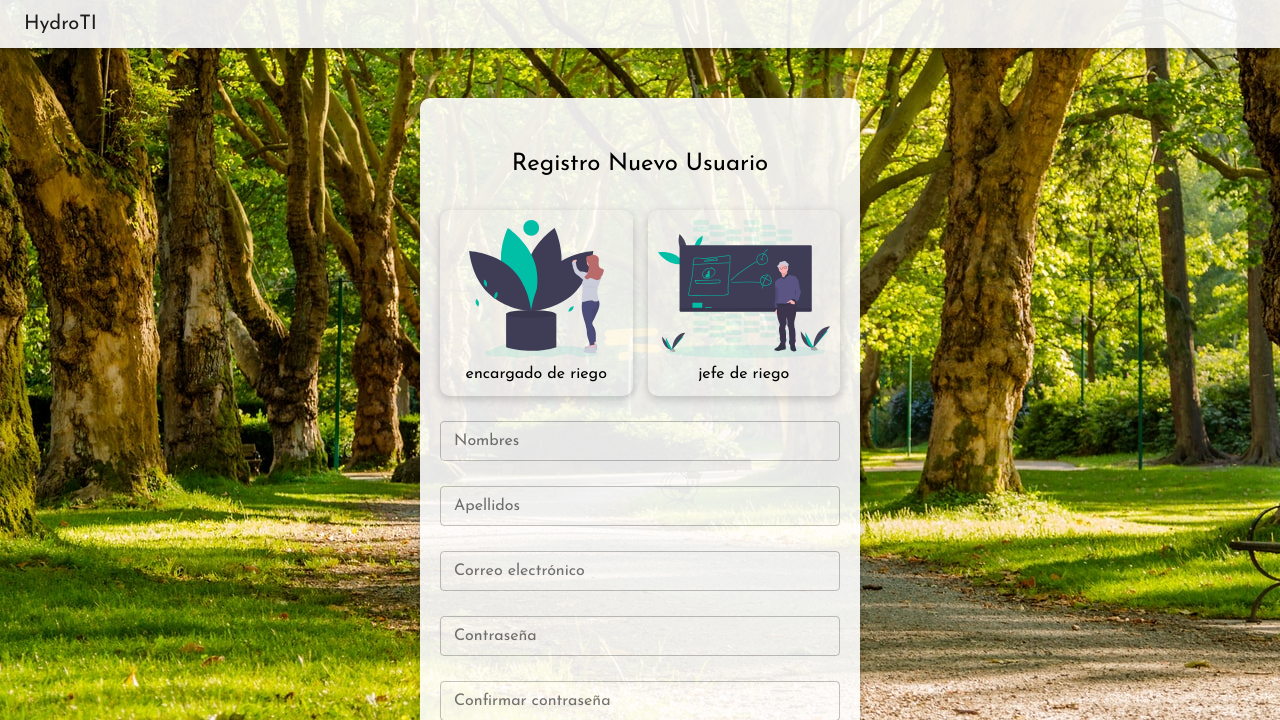
Test: As an user I want to register in the application to enter the plattforms › Should create the user correctly
Check the radio button named "role".
click(536, 352)  # box left=450, top=344, right=623, bottom=386
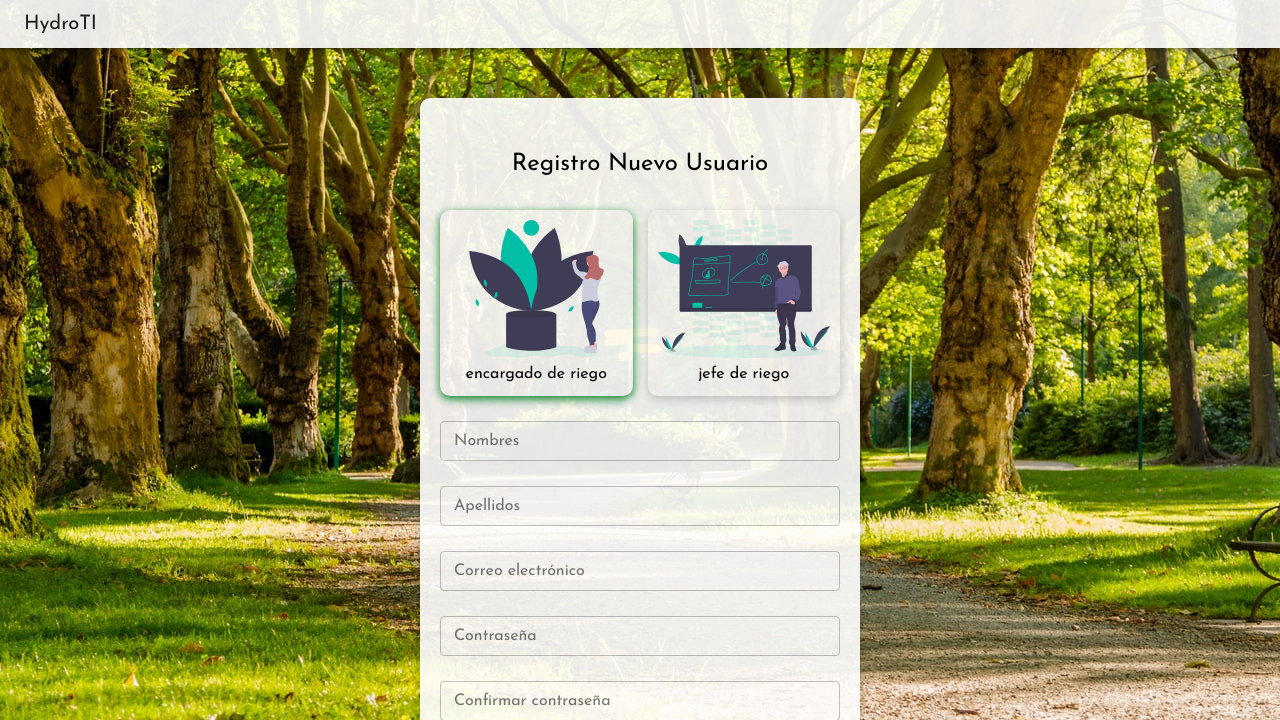
Type "name" into the field with id "sign-up-name".
click(640, 441); type("name")  # box left=440, top=421, right=840, bottom=461
Type "lastname" into the field with id "sign-up-lastname".
click(640, 506); type("lastname")  # box left=440, top=486, right=840, bottom=526
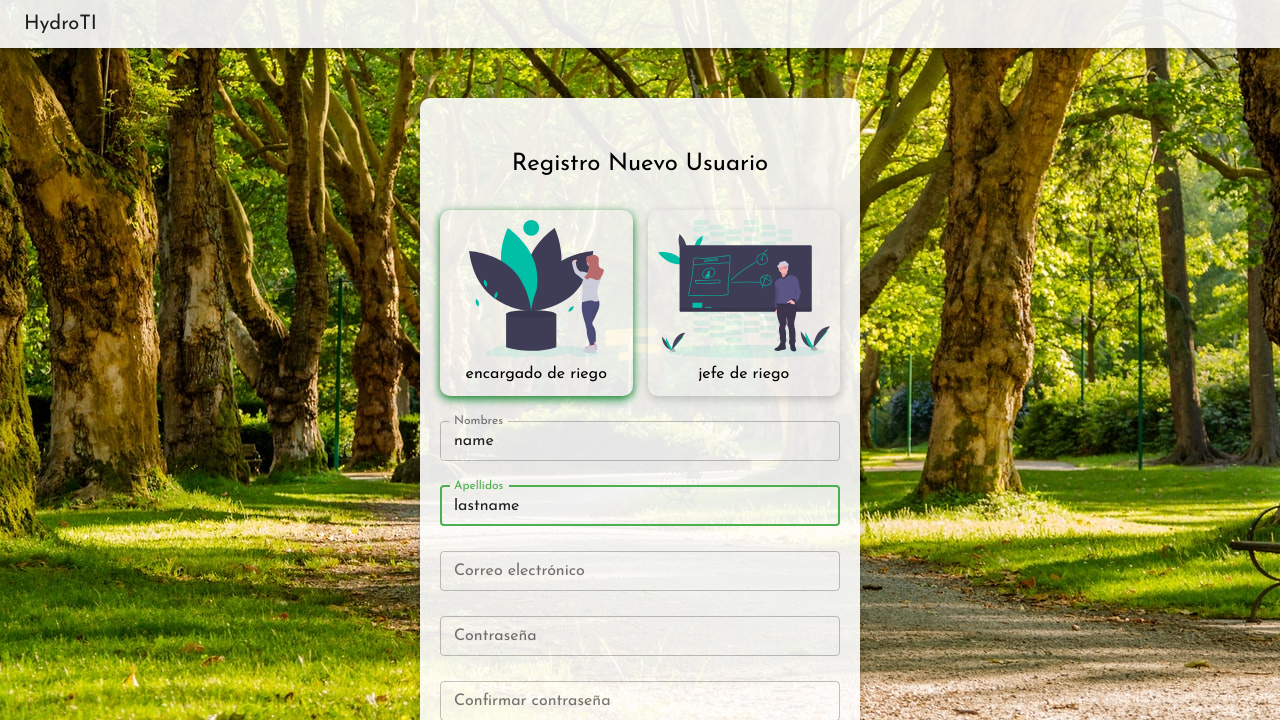
Type "mail@mail.com" into the field with id "sign-up-email".
click(640, 571); type("mail@mail.com")  # box left=440, top=551, right=840, bottom=591
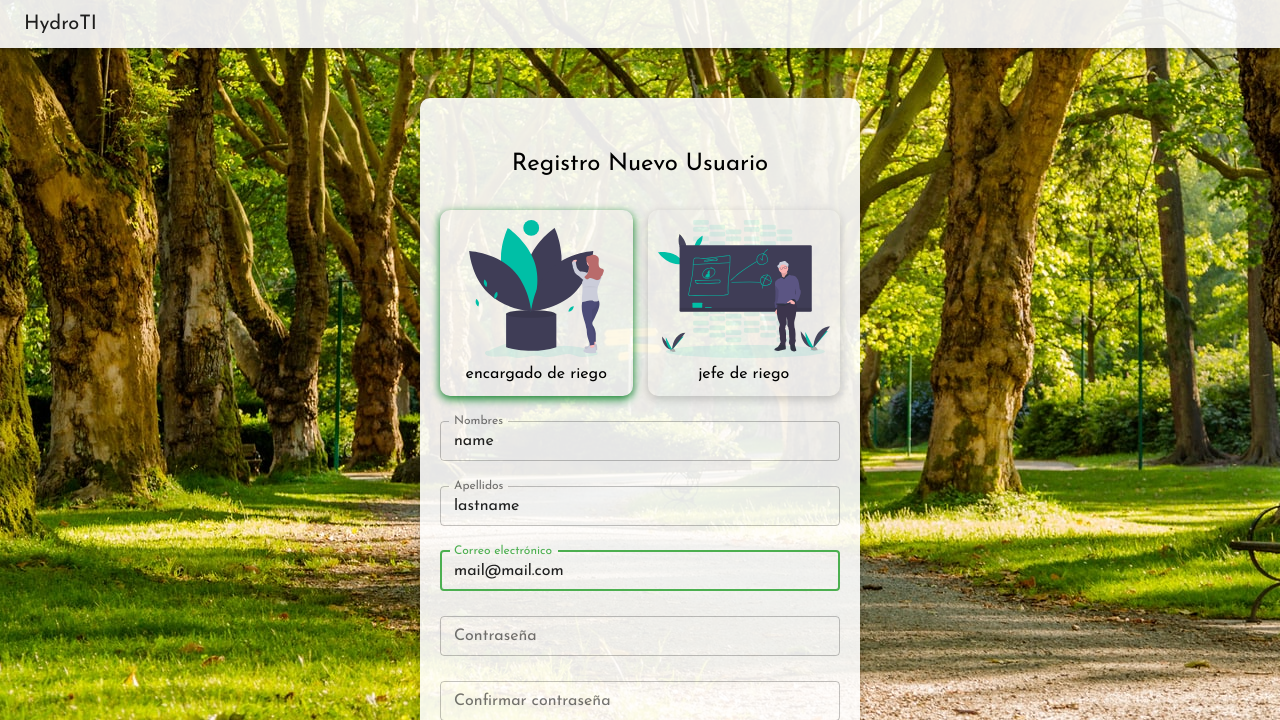
Type "password!" into the password field with id "sign-up-password".
click(640, 636); type("password!")  # box left=440, top=616, right=840, bottom=656
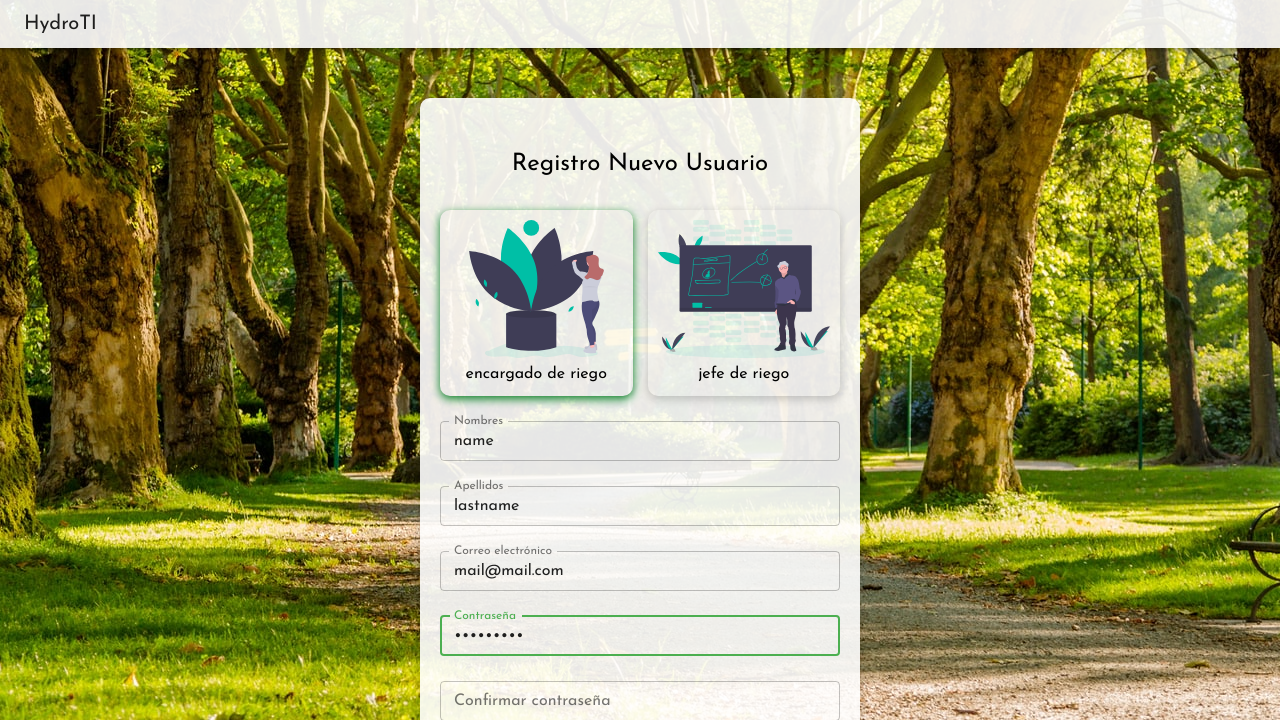
Scroll
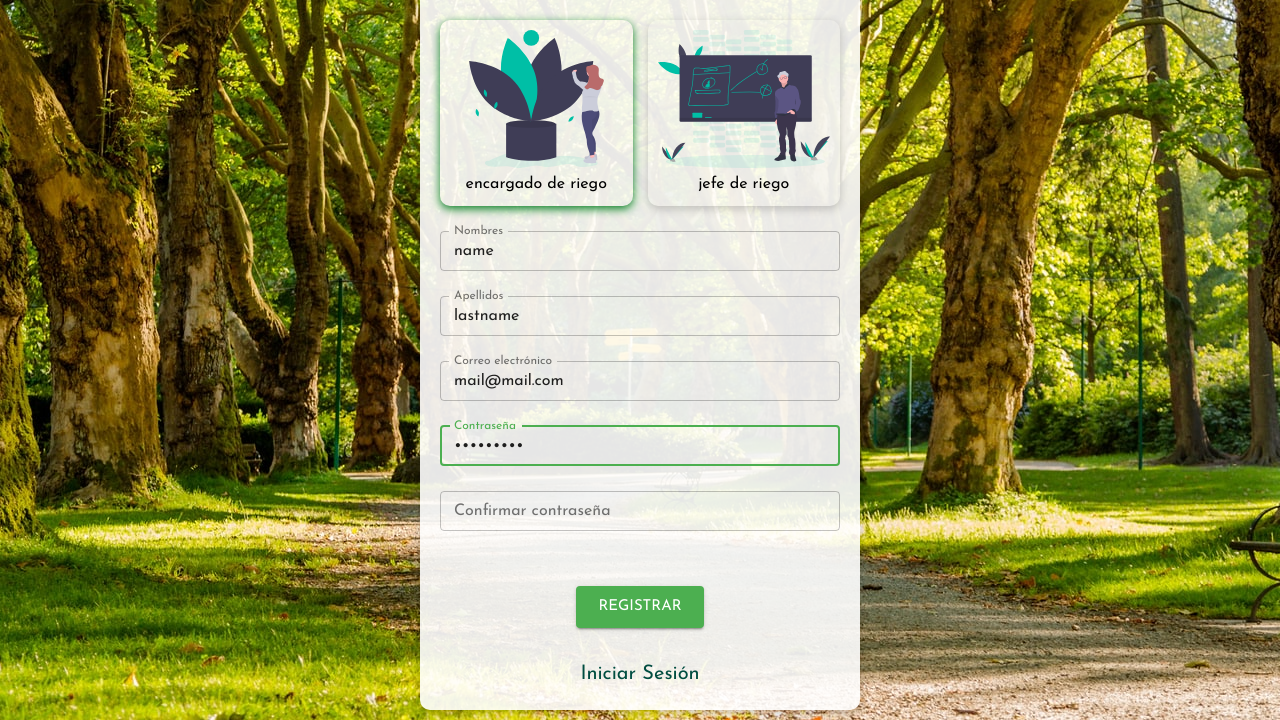
Type "password!" into the password field with id "sign-up-password-confirmation".
click(640, 511); type("password!")  # box left=440, top=491, right=840, bottom=531
Then press Enter
(page scrolled)
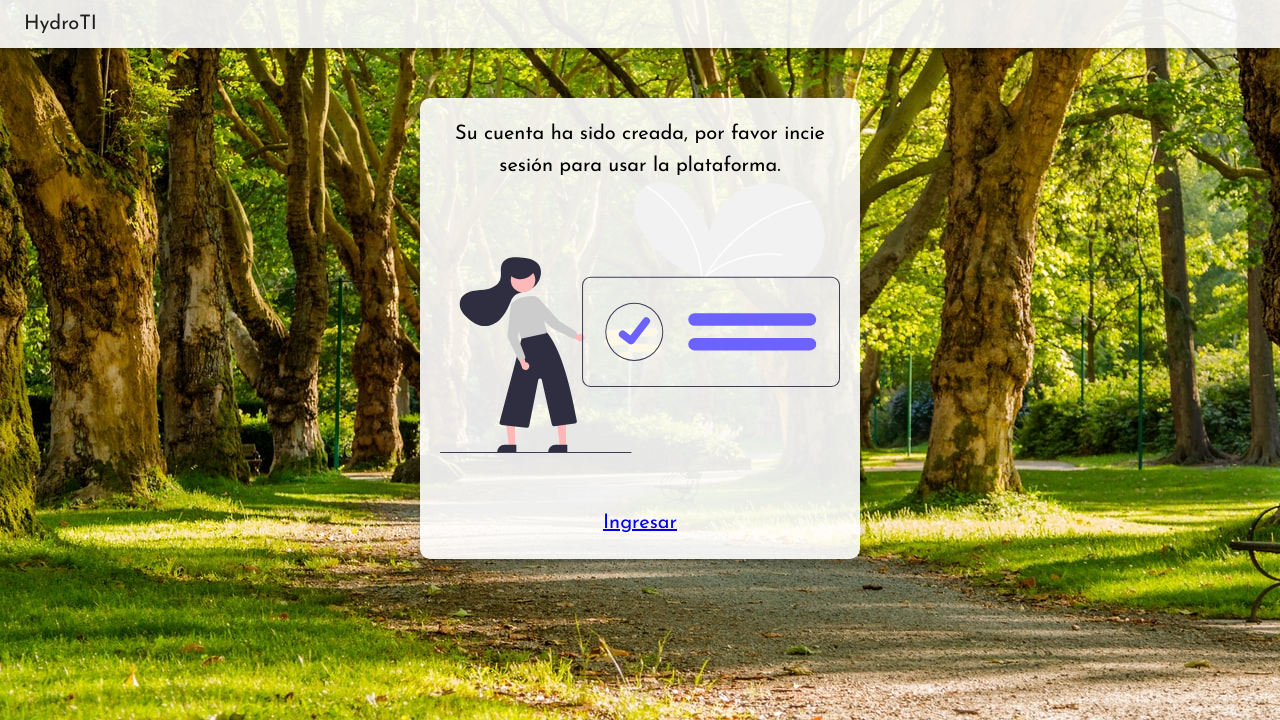
Check: the element with id "sign-up-confirmation" is shown, box left=440, top=118, right=840, bottom=539
